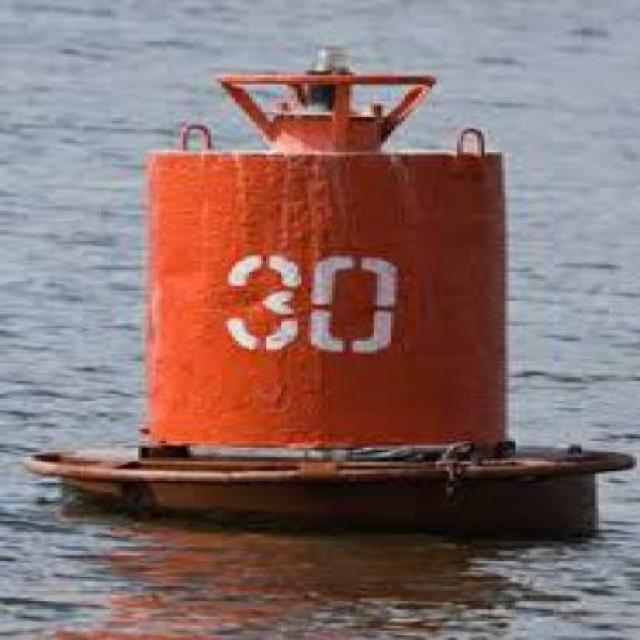buoy: (11, 41, 637, 552)
